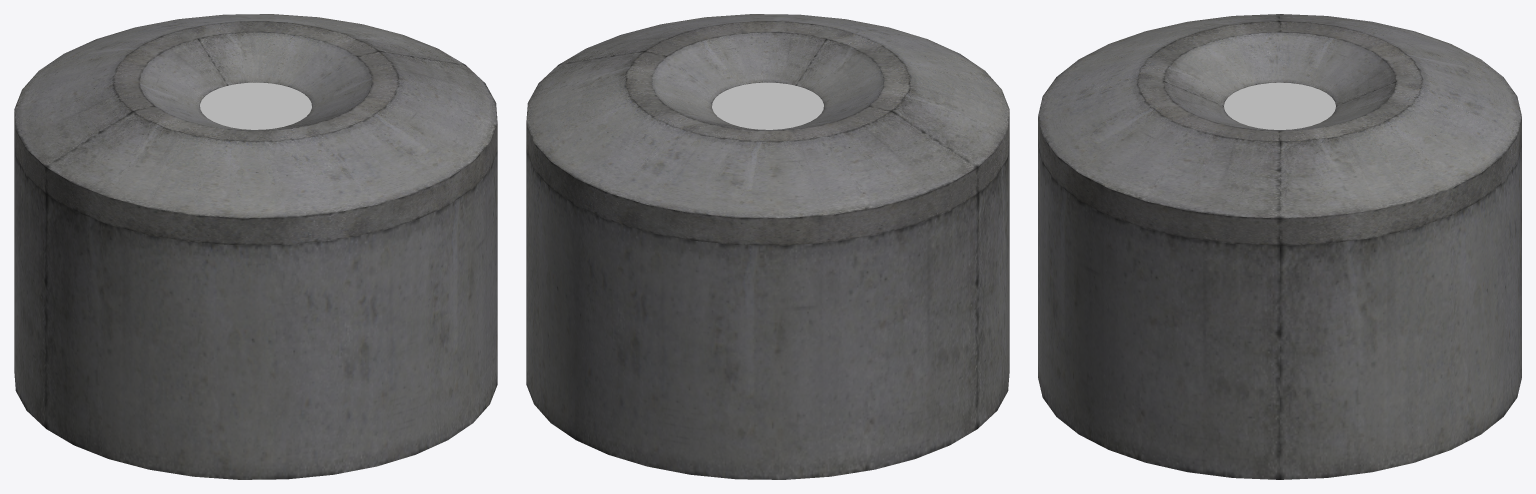
File: SM_Spawner_00.fbx
3 views of the same model, side by side, from view 1: azimuth 30°, elevation 25°; view 2: azimuth 150°, elevation 25°; view 3: azimuth 270°, elevation 25° (orthographic).
Parts seen in each view (by area): view 1: SM_Spawner_00; view 2: SM_Spawner_00; view 3: SM_Spawner_00.
Part boxes in pixels (bbox=[...]): SM_Spawner_00: bbox=[14, 14, 497, 479]; SM_Spawner_00: bbox=[526, 14, 1009, 479]; SM_Spawner_00: bbox=[1038, 14, 1521, 479].
Bounding box in the file's own units: 133 × 89.56 × 133.
